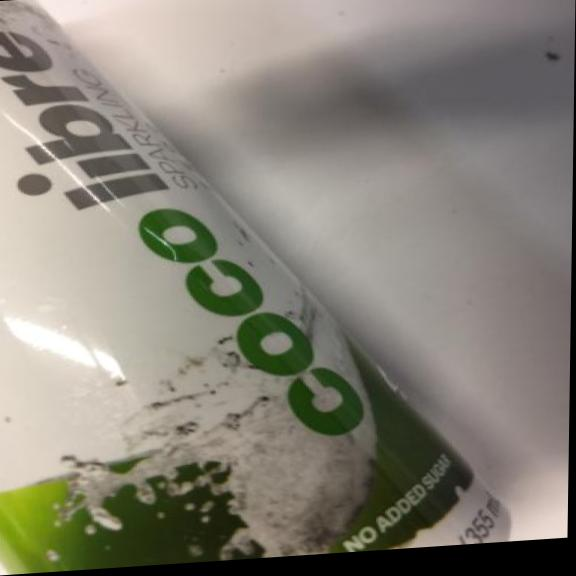Plastik: (0, 0, 526, 576)
